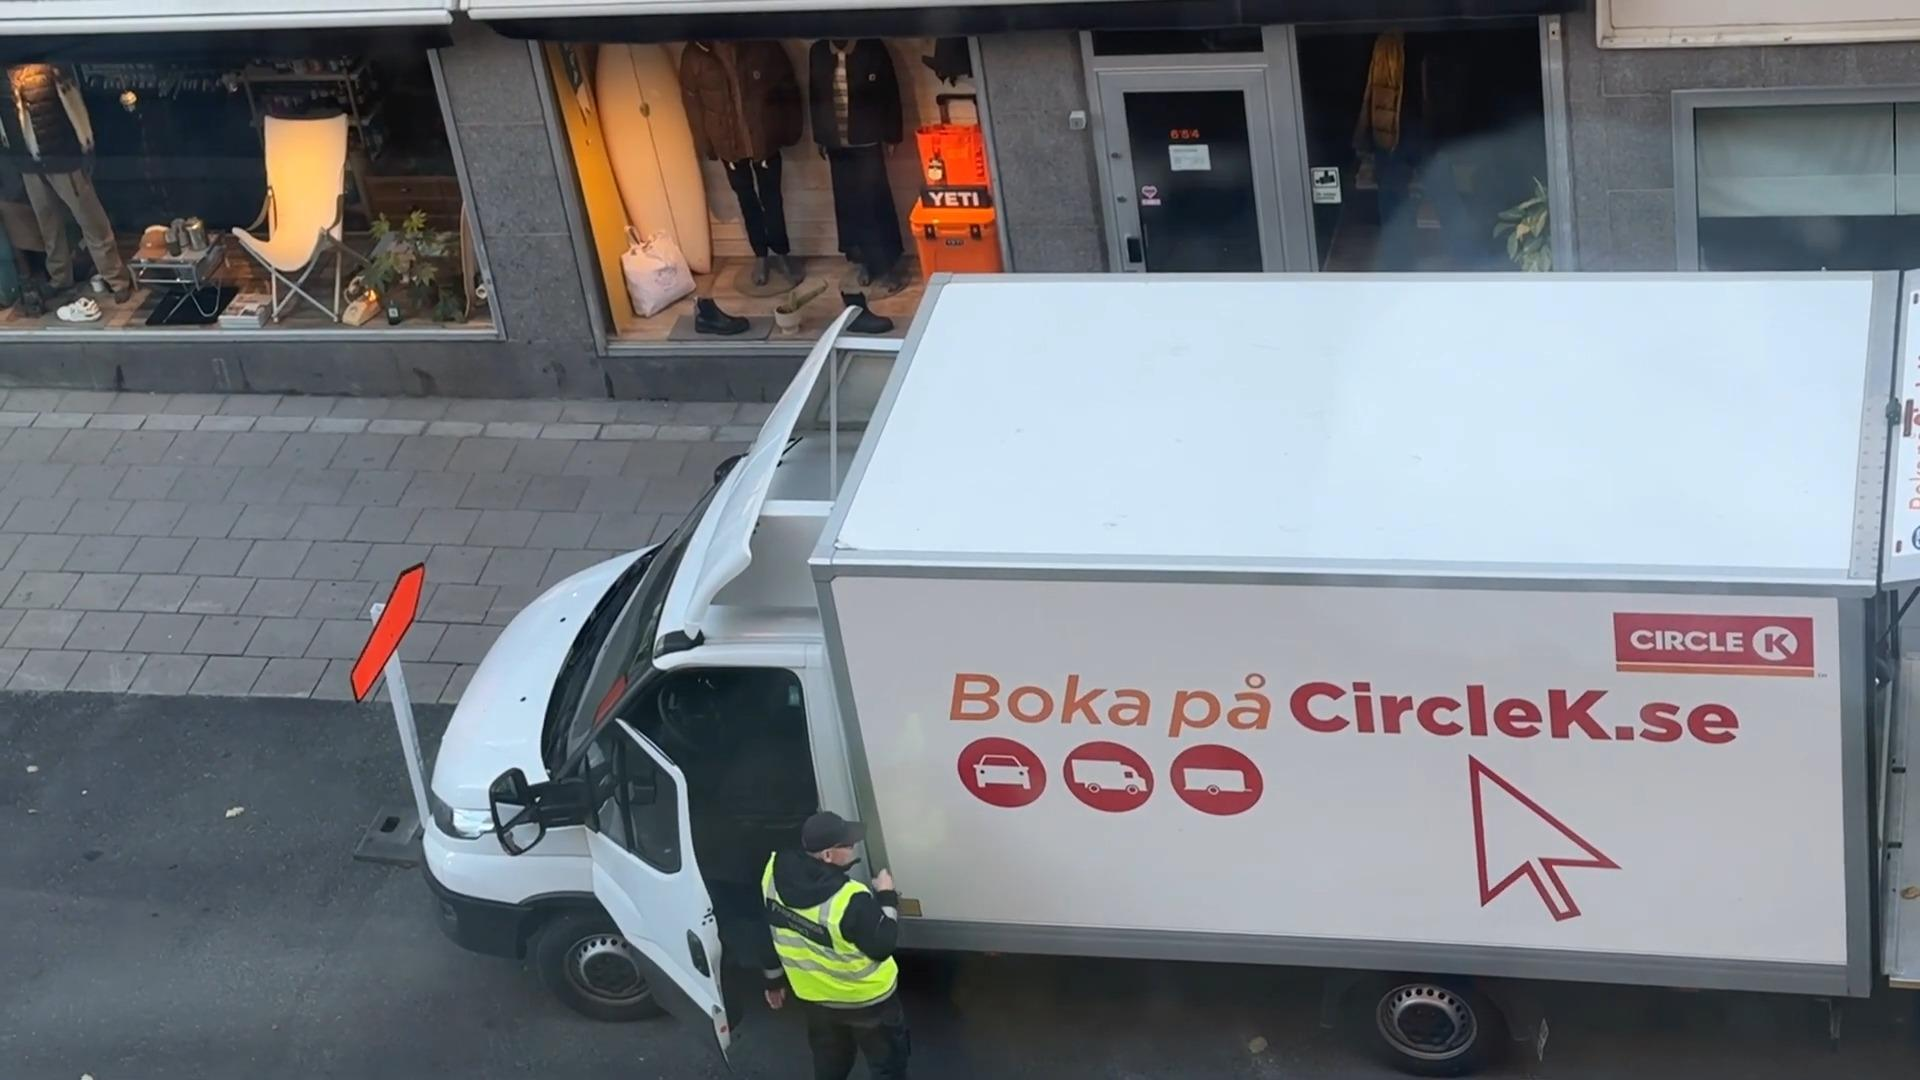parking-attendant: (762, 811, 909, 1079)
